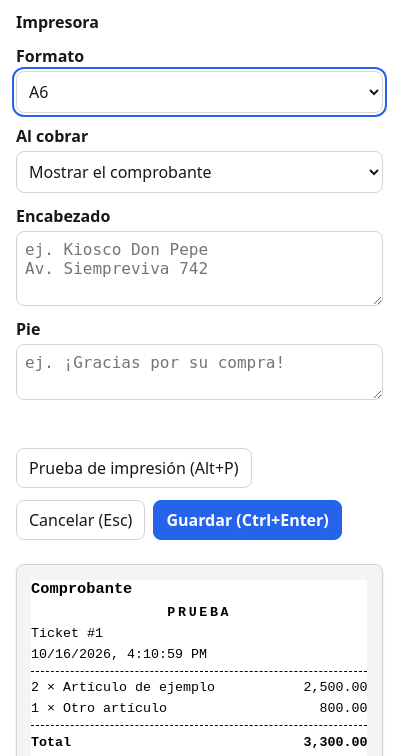
it: PrinterScreen › con "No imprimir" no se ofrece "Imprimir" y la prueba queda deshabilitada
Expected: the button "Prueba de impresión (Alt+P)" is enabled, left=16, top=448, right=252, bottom=488
Select "No imprimir" in the dropdown labelled "Formato" at (199, 92), box left=16, top=71, right=383, bottom=113
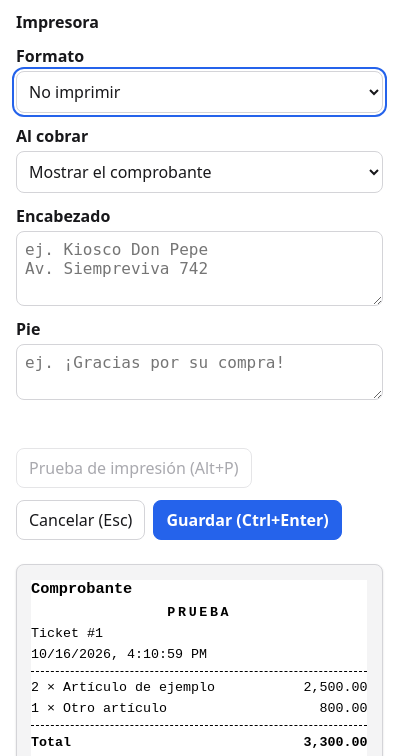
Result: the button "Prueba de impresión (Alt+P)" is disabled at left=16, top=448, right=252, bottom=488
